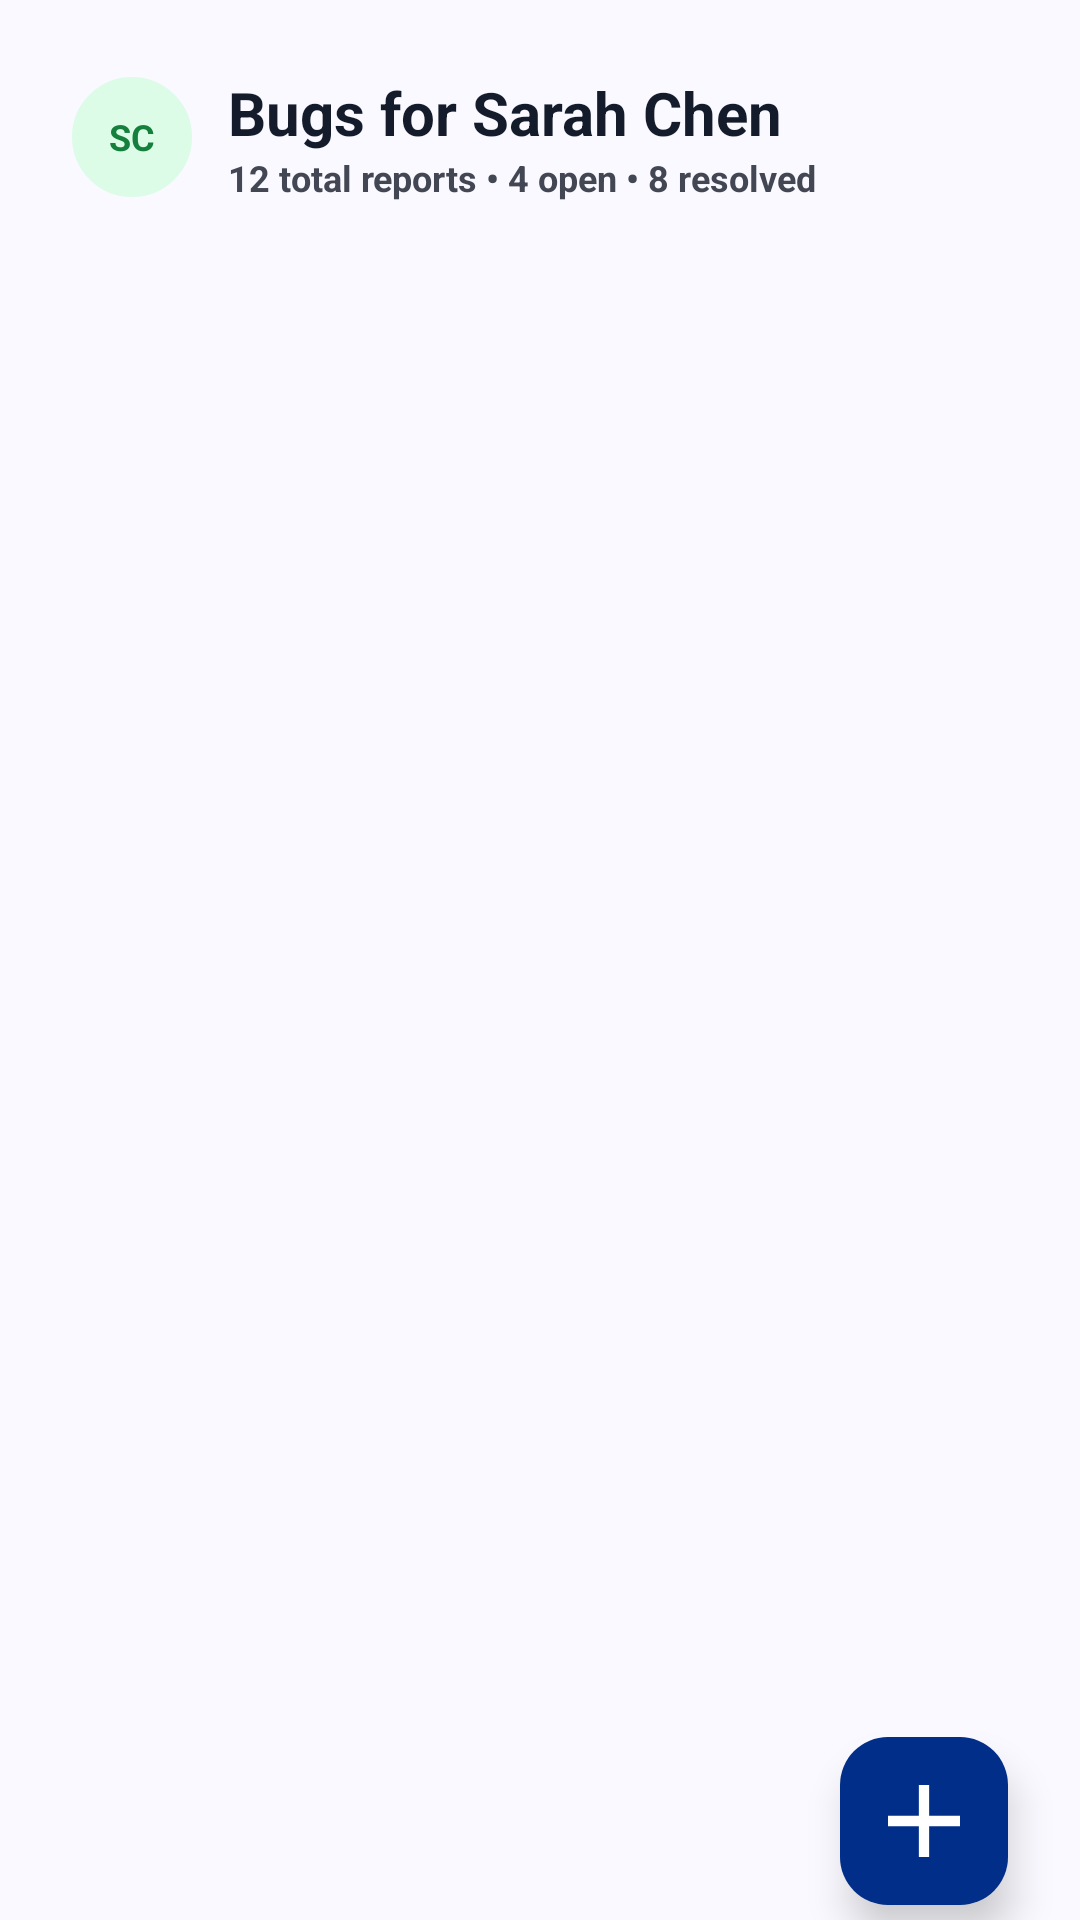

Screen size 1080x1920. Icon name, then its box in pixels as (x1, y1, x2, y2):
add plus: (840, 1737, 1008, 1905)
